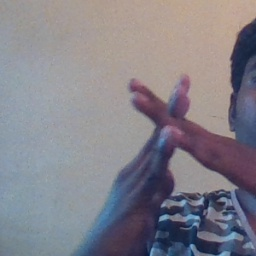W: (112, 57, 236, 213)
